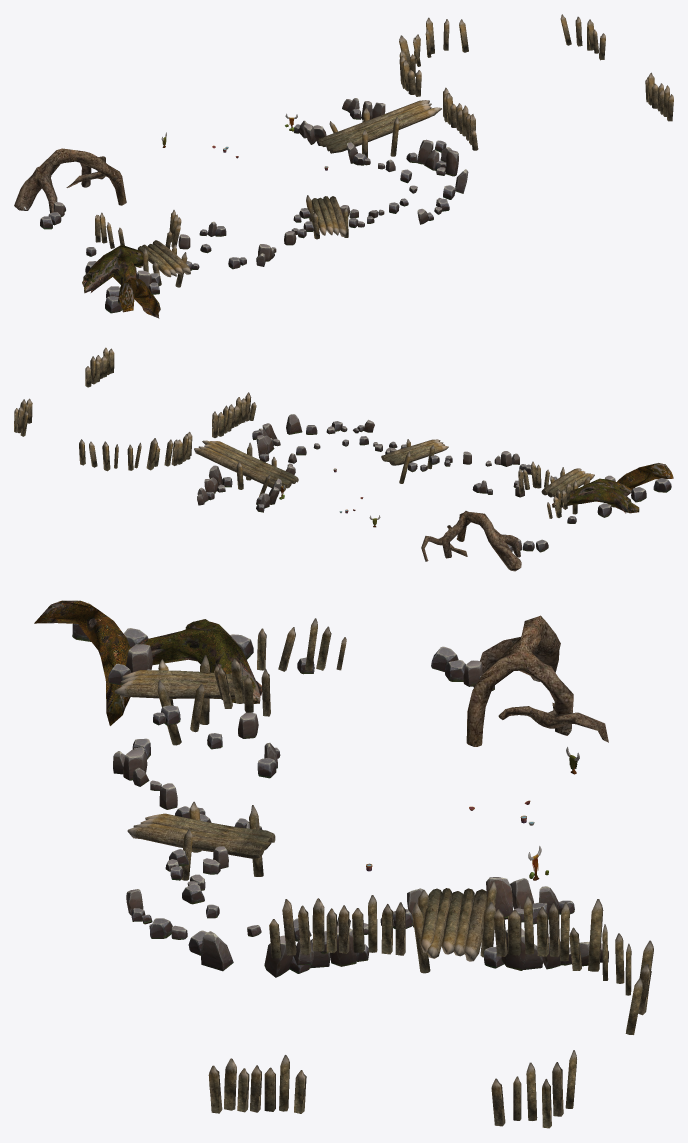
The model's file is smallprops1_1.glb.
The picture shows the model from 3 angles, top to bottom: view 1: azimuth 30°, elevation 25°; view 2: azimuth 150°, elevation 25°; view 3: azimuth 270°, elevation 25°; orthographic projection. The views are drawn at different scales.
Visible parts, largest first — view 1: bridge22, tree_gate2, TrunkBig2, bridge22_2, bridge22_3, BigTrunk1; view 2: bridge22, tree_gate2, TrunkBig2, bridge22_2, bridge22_3, BigTrunk1; view 3: tree_gate2, bridge22, bridge22_2, bridge22_3, TrunkBig2, BigTrunk1, tree_gate1, pasted__Stone_3_Low9, Cylinder012.
Boxes of the visible parts, left/top/right/bottom form: bridge22: left=318, top=100, right=441, bottom=158; tree_gate2: left=14, top=148, right=126, bottom=213; TrunkBig2: left=82, top=245, right=143, bottom=293; bridge22_2: left=306, top=195, right=348, bottom=239; bridge22_3: left=137, top=240, right=190, bottom=287; BigTrunk1: left=118, top=277, right=160, bottom=318; bridge22: left=194, top=440, right=298, bottom=496; tree_gate2: left=442, top=511, right=521, bottom=571; TrunkBig2: left=552, top=478, right=639, bottom=513; bridge22_2: left=381, top=439, right=448, bottom=483; bridge22_3: left=541, top=467, right=594, bottom=514; BigTrunk1: left=608, top=463, right=673, bottom=507; tree_gate2: left=466, top=615, right=573, bottom=746; bridge22: left=412, top=881, right=496, bottom=973; bridge22_2: left=127, top=801, right=275, bottom=880; bridge22_3: left=115, top=655, right=247, bottom=745; TrunkBig2: left=131, top=619, right=261, bottom=703; BigTrunk1: left=34, top=600, right=130, bottom=725; tree_gate1: left=498, top=702, right=608, bottom=742; pasted__Stone_3_Low9: left=201, top=931, right=233, bottom=971; Cylinder012: left=588, top=899, right=603, bottom=971.
Size of what is drawn, in the model's own units: 4998 by 680 by 2491.
7 materials, 7 textured.
